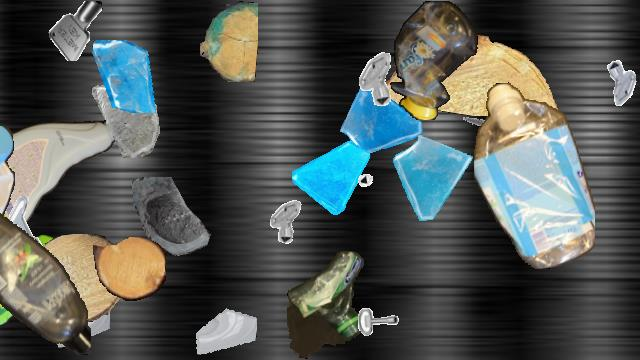glass: (129, 177, 223, 271), (387, 133, 479, 225), (339, 76, 427, 164), (292, 137, 370, 215), (89, 84, 163, 158), (89, 40, 161, 112), (195, 296, 257, 358), (53, 291, 109, 347)
metal: (0, 194, 59, 256), (47, 1, 107, 61), (345, 50, 403, 108), (352, 303, 408, 359), (259, 196, 307, 244), (458, 104, 502, 148), (600, 57, 640, 105), (355, 156, 393, 194)
plastic: (474, 81, 594, 269), (0, 114, 118, 242), (0, 209, 90, 359), (389, 1, 479, 119), (287, 249, 365, 359), (0, 234, 80, 326), (0, 126, 18, 332)
wood: (383, 35, 569, 115), (27, 234, 125, 322), (200, 1, 258, 81), (93, 237, 165, 301)
